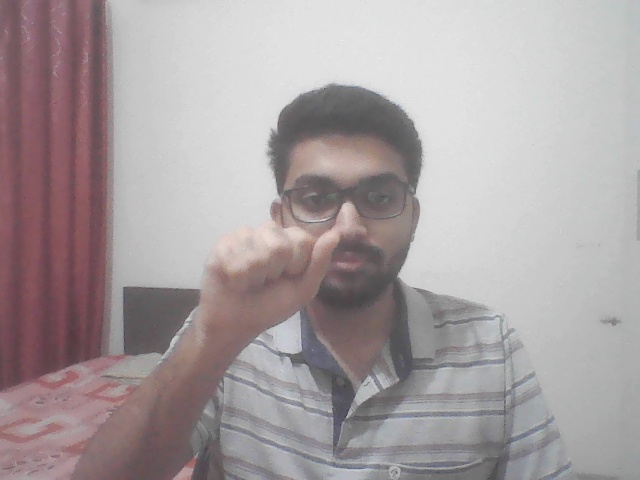yes: (185, 202, 356, 355)
